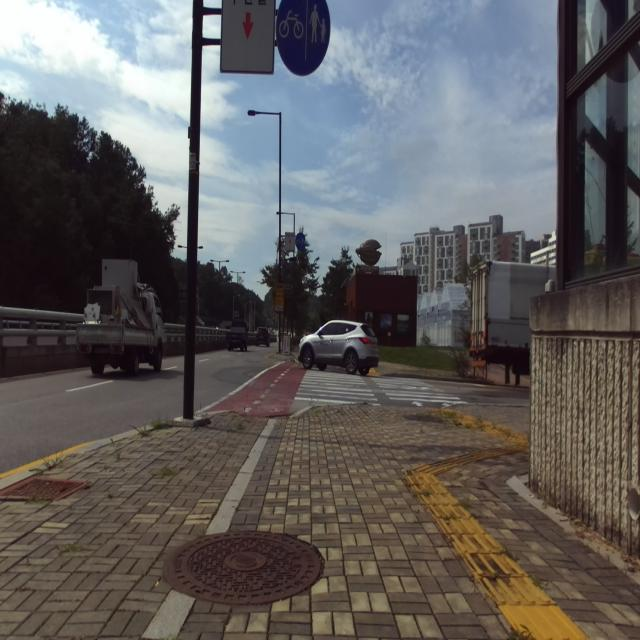횡단보도: (294, 368, 469, 407)
